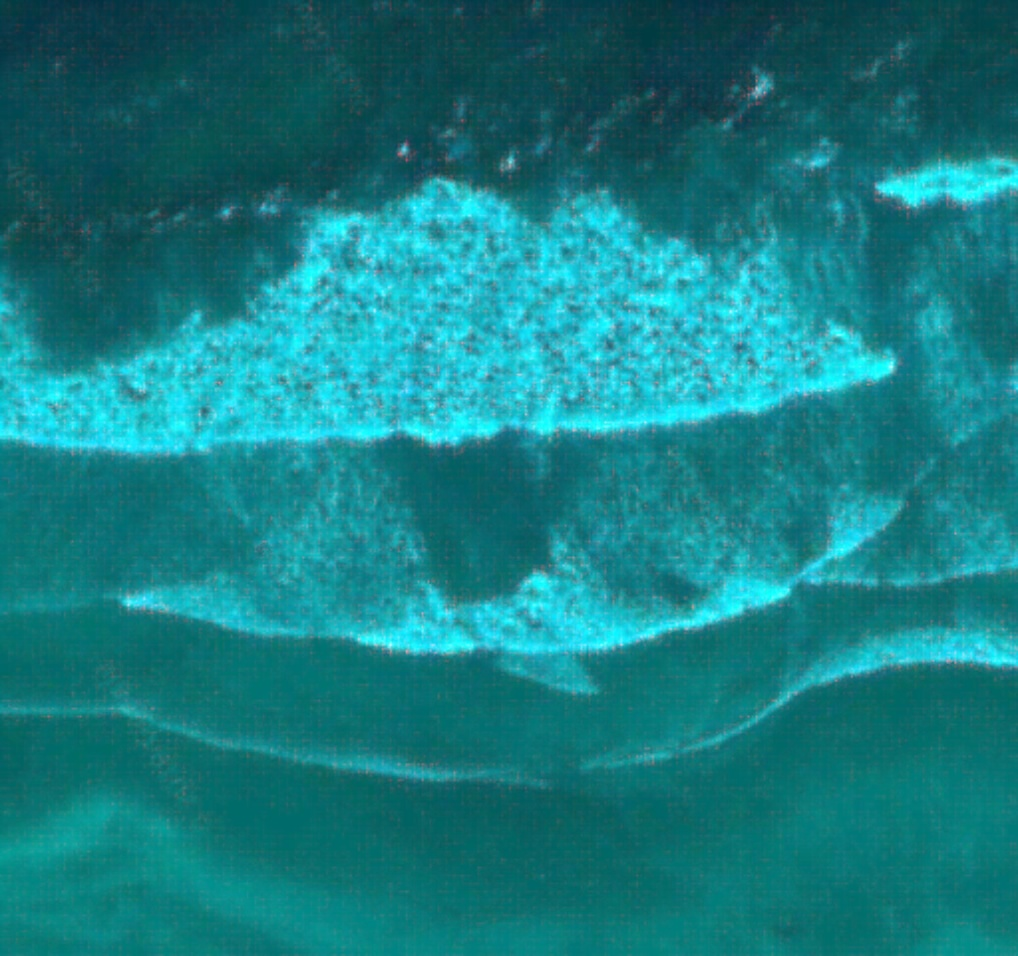rip_current: (312, 168, 605, 596)
